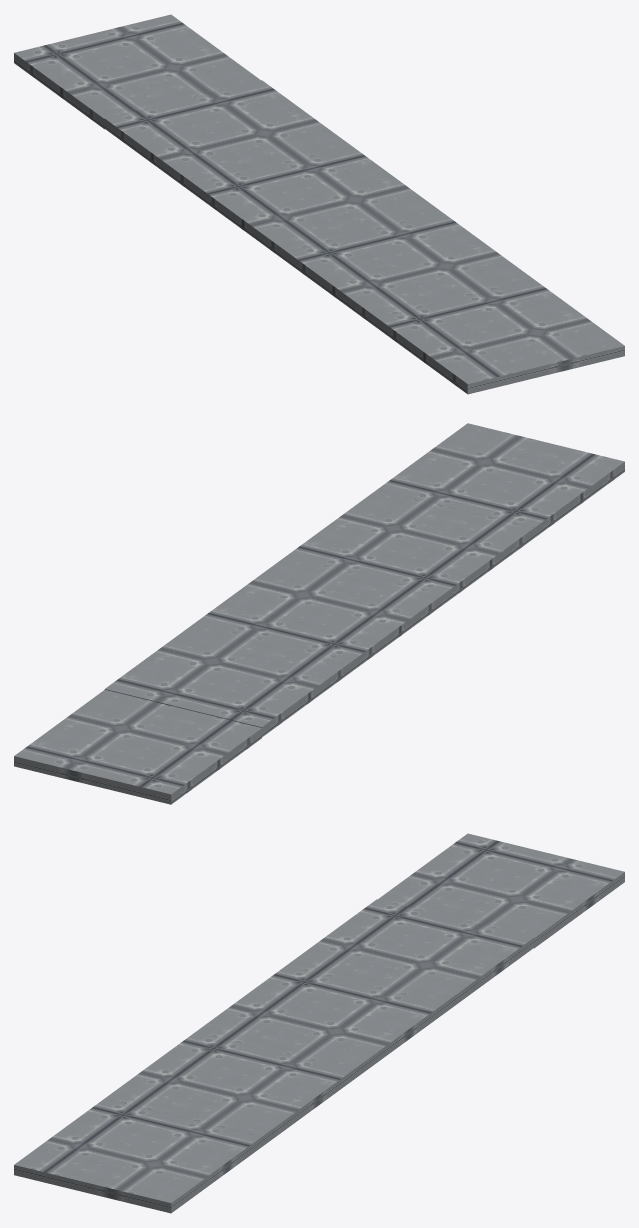
Rendered from stage1_Penetrate.fbx.
3 renders of one model, top to bottom at view 1: azimuth 30°, elevation 25°; view 2: azimuth 150°, elevation 25°; view 3: azimuth 330°, elevation 25°, orthographic.
Parts seen in each view (by area): view 1: floor_def165; view 2: floor_def165; view 3: floor_def165.
Part boxes in pixels (x1=…): floor_def165: x1=14, y1=14, x2=624, y2=394; floor_def165: x1=14, y1=423, x2=624, y2=804; floor_def165: x1=14, y1=833, x2=624, y2=1213.
Bounding box in the file's own units: 200 × 13.42 × 1000.
Materials: 1 (1 with a texture image).
